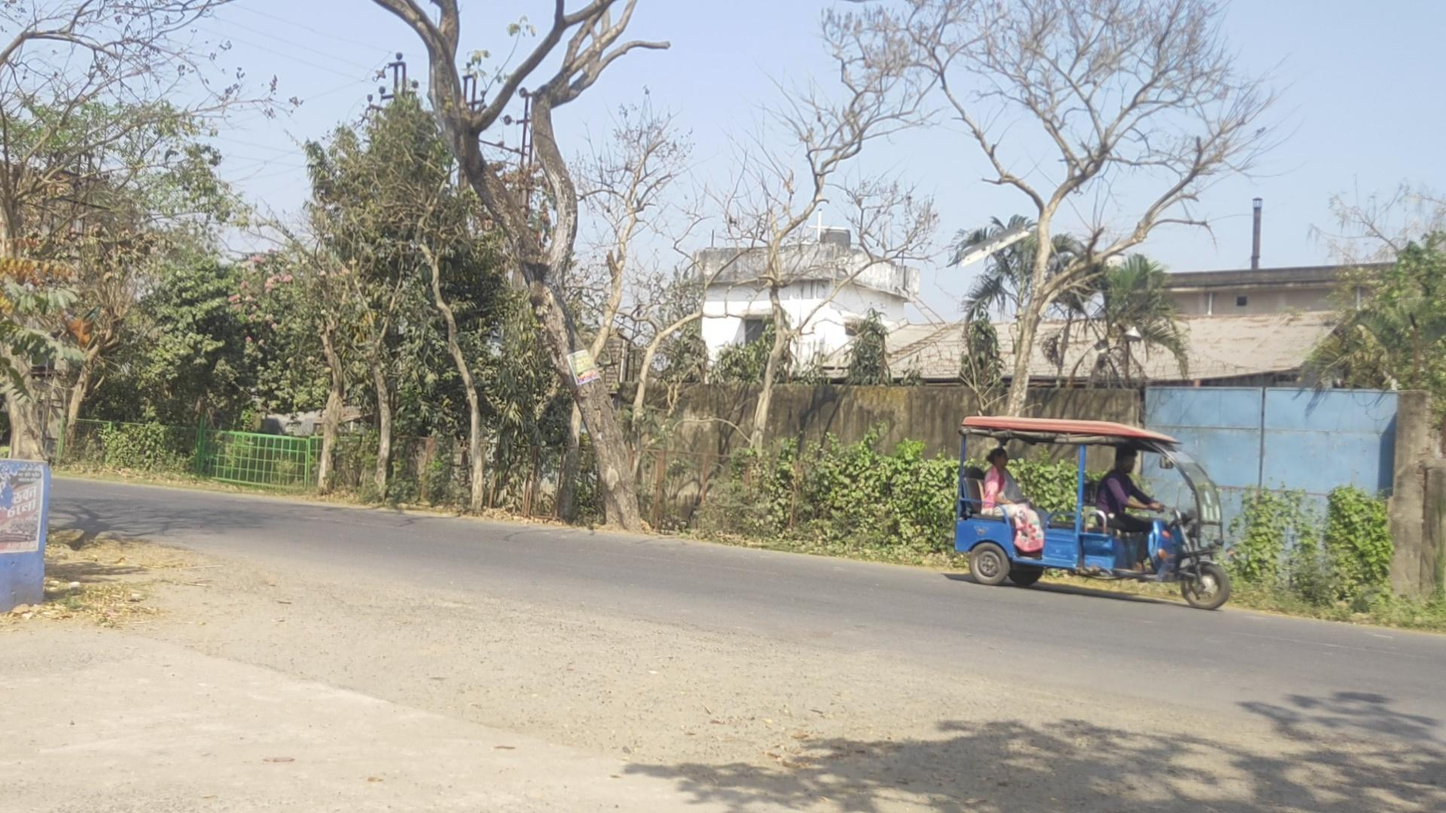Auto: (953, 415, 1231, 611)
